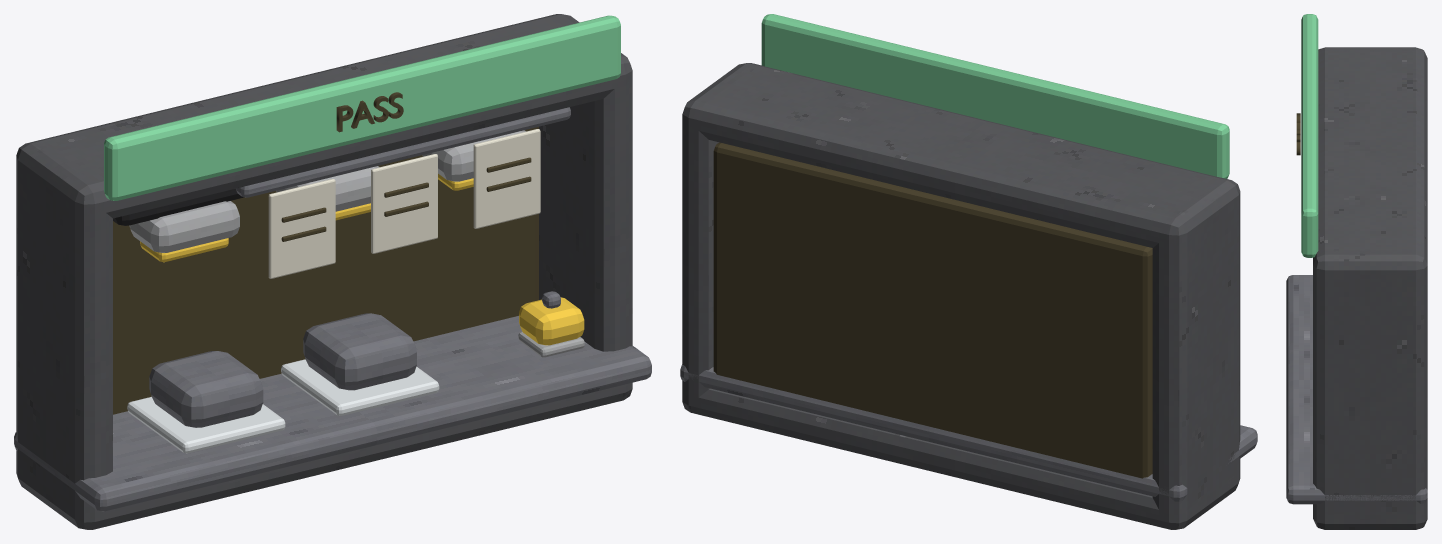
The model's file is decor_svc_pass_hatch.glb.
3 views of the same model, side by side, from view 1: azimuth 30°, elevation 25°; view 2: azimuth 150°, elevation 25°; view 3: azimuth 270°, elevation 25° (orthographic). The views are drawn at different scales.
Visible parts, largest first — view 1: DEC_SvcPassHatch__Hatch_Back, DEC_SvcPassHatch__Header, DEC_SvcPassHatch__Pass_Counter, DEC_SvcPassHatch__Hatch_Post_1, DEC_SvcPassHatch__Hatch_Post_2, DEC_SvcPassHatch__Hatch_Frame_Top, DEC_SvcPassHatch__Hatch_Frame_Sill, DEC_SvcPassHatch__Plated_Cloche_1, DEC_SvcPassHatch__Plated_Cloche_2, DEC_SvcPassHatch__Order_Ticket_3, DEC_SvcPassHatch__Order_Ticket_1, DEC_SvcPassHatch__Order_Ticket_2 (+11 smaller); view 2: DEC_SvcPassHatch__Hatch_Back, DEC_SvcPassHatch__Hatch_Frame_Top, DEC_SvcPassHatch__Hatch_Post_1, DEC_SvcPassHatch__Header, DEC_SvcPassHatch__Hatch_Frame_Sill, DEC_SvcPassHatch__Hatch_Post_2, DEC_SvcPassHatch__Pass_Counter; view 3: DEC_SvcPassHatch__Hatch_Post_2, DEC_SvcPassHatch__Hatch_Frame_Top, DEC_SvcPassHatch__Pass_Counter, DEC_SvcPassHatch__Header, DEC_SvcPassHatch__Hatch_Frame_Sill, DEC_SvcPassHatch__Hatch_Post_1, DEC_SvcPassHatch__Header_Text.
Boxes of the visible parts, x1,y1,x2,y2 form: DEC_SvcPassHatch__Hatch_Back: [113, 126, 538, 414]; DEC_SvcPassHatch__Header: [104, 15, 620, 200]; DEC_SvcPassHatch__Pass_Counter: [14, 316, 651, 511]; DEC_SvcPassHatch__Hatch_Post_1: [16, 140, 112, 529]; DEC_SvcPassHatch__Hatch_Post_2: [539, 14, 632, 402]; DEC_SvcPassHatch__Hatch_Frame_Top: [17, 14, 630, 218]; DEC_SvcPassHatch__Hatch_Frame_Sill: [17, 383, 632, 529]; DEC_SvcPassHatch__Plated_Cloche_1: [149, 351, 263, 427]; DEC_SvcPassHatch__Plated_Cloche_2: [303, 313, 416, 390]; DEC_SvcPassHatch__Order_Ticket_3: [473, 129, 540, 228]; DEC_SvcPassHatch__Order_Ticket_1: [268, 179, 335, 278]; DEC_SvcPassHatch__Order_Ticket_2: [371, 154, 437, 253]; DEC_SvcPassHatch__Hatch_Back: [713, 142, 1152, 478]; DEC_SvcPassHatch__Hatch_Frame_Top: [688, 65, 1239, 247]; DEC_SvcPassHatch__Hatch_Post_1: [1152, 177, 1240, 529]; DEC_SvcPassHatch__Header: [761, 14, 1229, 178]; DEC_SvcPassHatch__Hatch_Frame_Sill: [684, 388, 1237, 529]; DEC_SvcPassHatch__Hatch_Post_2: [682, 63, 759, 414]; DEC_SvcPassHatch__Pass_Counter: [680, 364, 1257, 501]; DEC_SvcPassHatch__Hatch_Post_2: [1313, 250, 1427, 529]; DEC_SvcPassHatch__Hatch_Frame_Top: [1313, 48, 1427, 279]; DEC_SvcPassHatch__Pass_Counter: [1286, 275, 1427, 504]; DEC_SvcPassHatch__Header: [1301, 14, 1318, 257]; DEC_SvcPassHatch__Hatch_Frame_Sill: [1313, 510, 1427, 529]; DEC_SvcPassHatch__Hatch_Post_1: [1318, 47, 1427, 61]; DEC_SvcPassHatch__Header_Text: [1296, 113, 1300, 155].
Size of the model in its own units: 1.52 by 1.03 by 0.42.
Materials: 9 (4 with a texture image).
